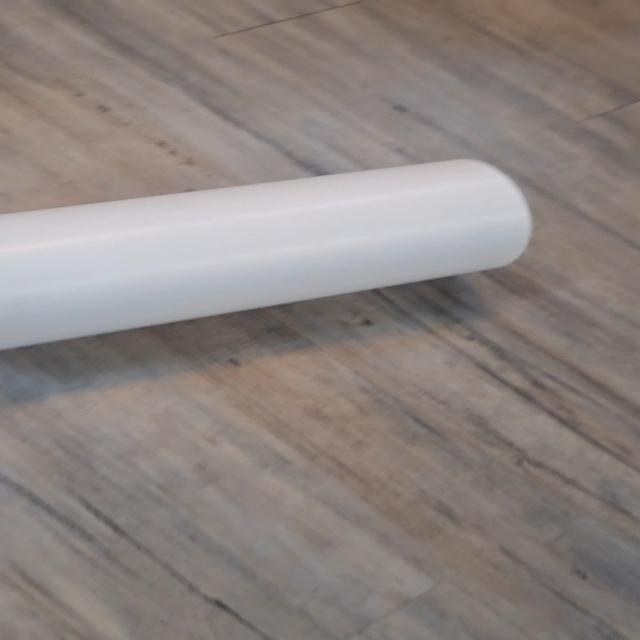CORAL: (0, 150, 540, 362)
